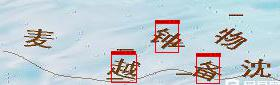chinese: (149, 24, 181, 51), (216, 26, 249, 52), (22, 25, 52, 53), (242, 58, 271, 83), (110, 55, 140, 79), (194, 58, 220, 81)
